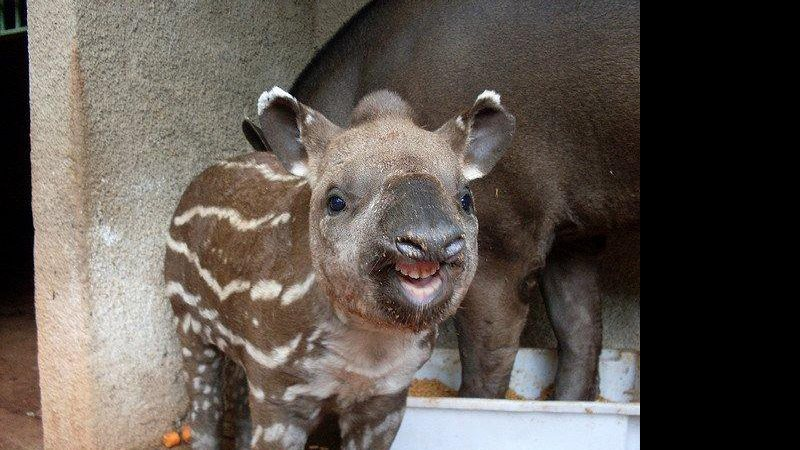Anta: (170, 87, 527, 443)
